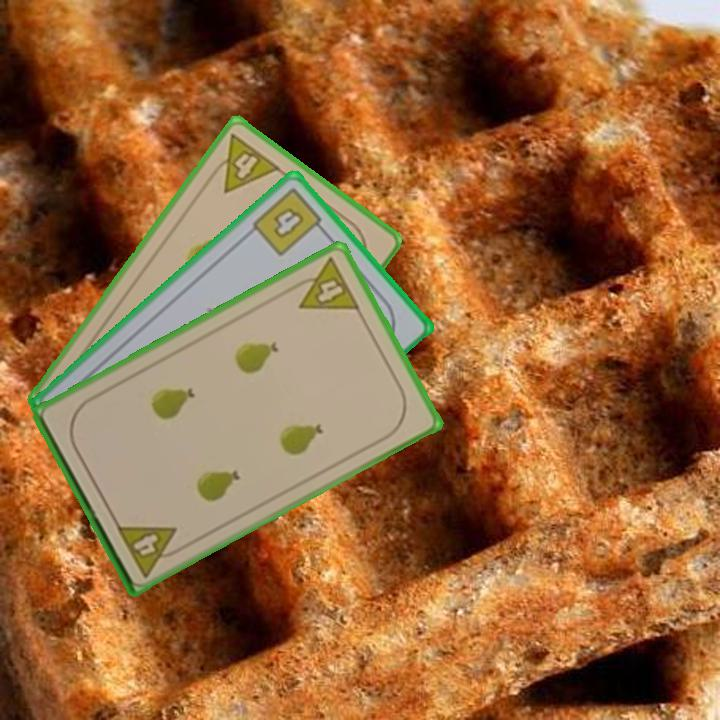4b: (248, 184, 330, 259)
4p: (203, 130, 284, 196), (286, 253, 363, 313), (112, 520, 188, 580)
